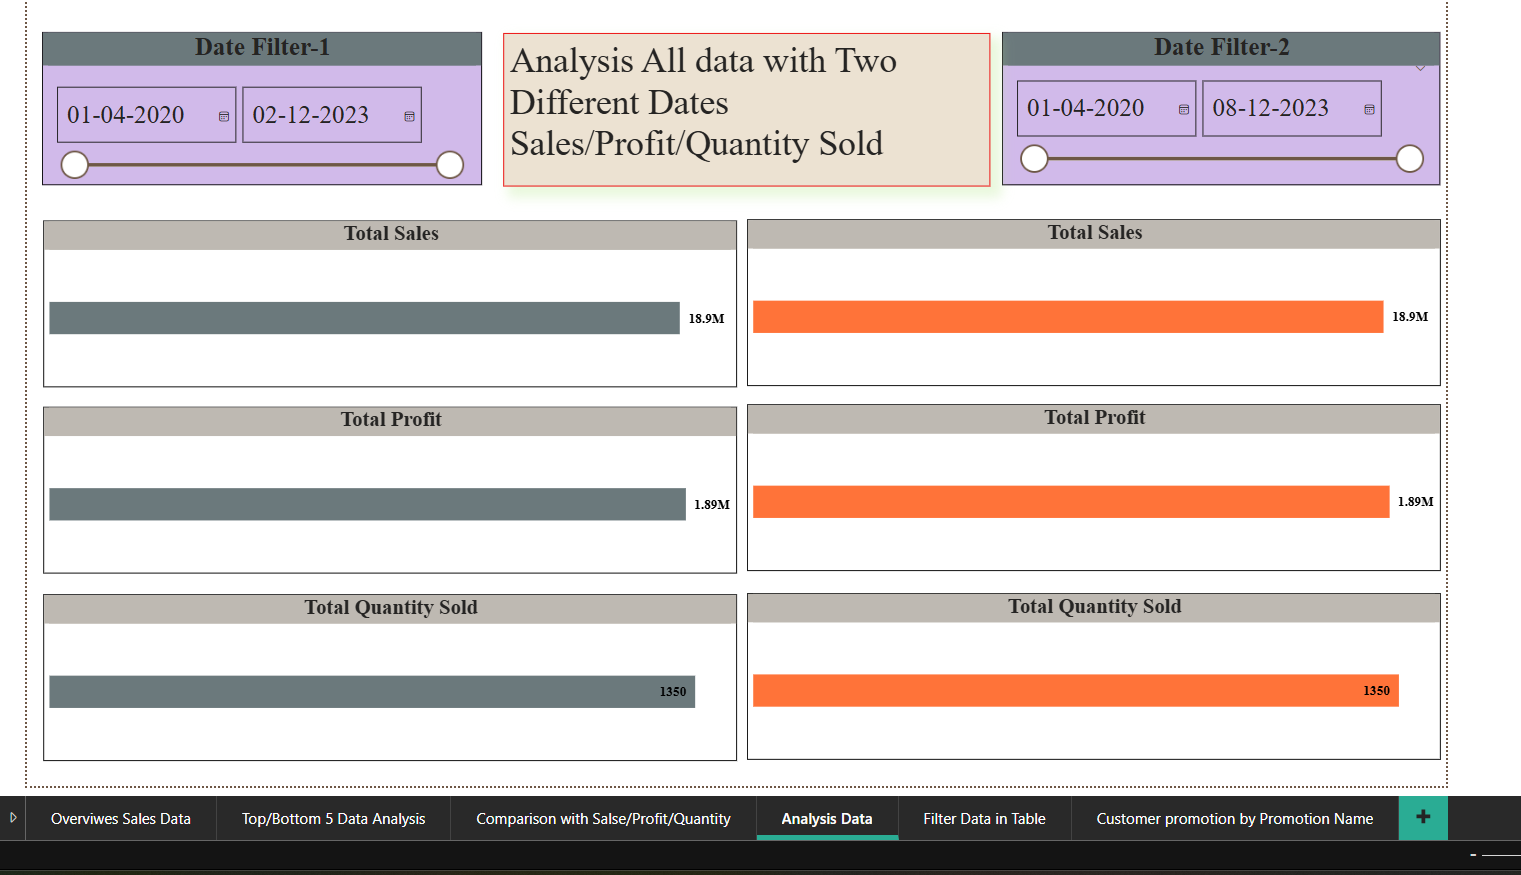

The page's visual inventory and layout, read from the dashboard file:
{"tool":"powerbi","page":{"name":"Edit Intractions","canvas":[1280,720],"ordinal":3},"visuals":[{"type":"slicer","title":"Date Filter-1","fields":{"Values":["Fact Table.Date (dd/mm/yyyy)"]},"box":[14.3,10,395.7,138.6],"z":0},{"type":"slicer","title":"Date Filter-2","fields":{"Values":["Fact Table.Date (dd/mm/yyyy)"]},"box":[868.6,10,395.7,138.6],"z":1000},{"type":"barChart","title":"Total Sales","fields":{"Y":["Sum(Fact Table.Net Sales)"]},"box":[14.3,210,625.7,150],"z":2000},{"type":"barChart","title":"Total Profit","fields":{"Y":["Sum(Fact Table.Profit)"]},"box":[14.3,377.1,625.7,150],"z":3000},{"type":"barChart","title":"Total Quantity Sold","fields":{"Y":["Sum(Fact Table.Units Sold)"]},"box":[14.3,547.1,625.7,150],"z":4000},{"type":"barChart","title":"Total Sales","fields":{"Y":["Sum(Fact Table.Net Sales)"]},"box":[649.4,208.6,625.7,150],"z":5000},{"type":"barChart","title":"Total Profit","fields":{"Y":["Sum(Fact Table.Profit)"]},"box":[649.4,375.7,625.7,150],"z":6000},{"type":"barChart","title":"Total Quantity Sold","fields":{"Y":["Sum(Fact Table.Units Sold)"]},"box":[649.4,545.7,625.7,150],"z":7000}]}

Visuals, with their boxes on the page's 1280x720 design canvas (x1, y1, x2, y2). These are canvas units, not pixel positions in the 1521x875 screenshot, which may show the page scaled, cropped or inside an application window:
"Date Filter-1" slicer: Rect(14, 10, 410, 149)
"Date Filter-2" slicer: Rect(869, 10, 1264, 149)
"Total Sales" barChart: Rect(14, 210, 640, 360)
"Total Profit" barChart: Rect(14, 377, 640, 527)
"Total Quantity Sold" barChart: Rect(14, 547, 640, 697)
"Total Sales" barChart: Rect(649, 209, 1275, 359)
"Total Profit" barChart: Rect(649, 376, 1275, 526)
"Total Quantity Sold" barChart: Rect(649, 546, 1275, 696)
